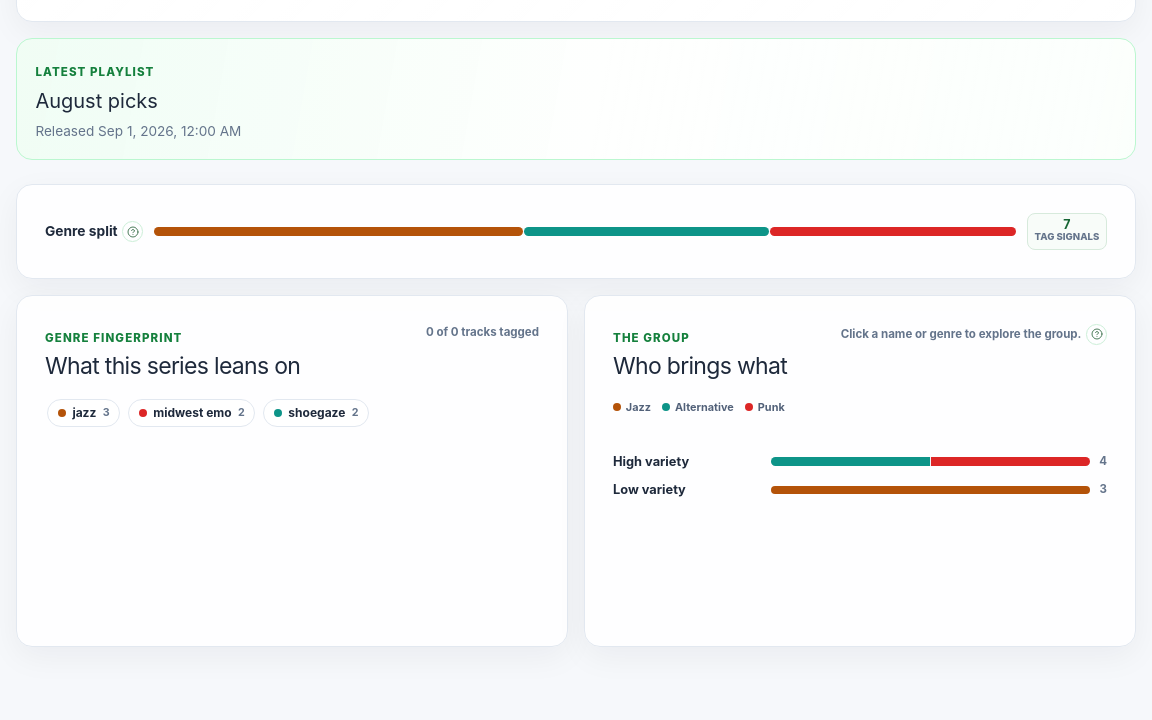
Test: SeriesPage › sorts and highlights contributors from the genre key or a fingerprint tag
(page scrolled)
Expected: the heading "Who brings what" is shown, x1=613 y1=353 x2=787 y2=380
Expected: the list item "High variety 4" is shown, x1=613 y1=452 x2=1107 y2=471
Click the button "punk" at (765, 407), box x1=745 y1=399 x2=785 y2=415
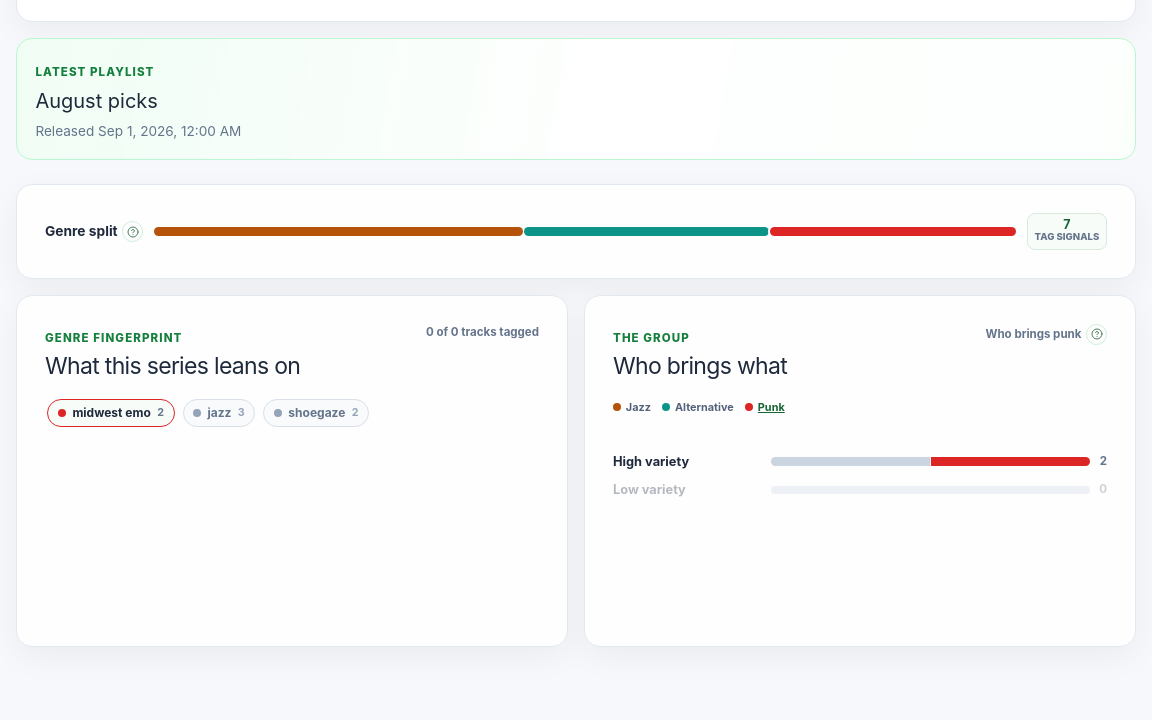
Expected: the list item "High variety 2" is shown, x1=613 y1=452 x2=1107 y2=471
Expected: the text "Who brings punk" is shown, x1=986 y1=324 x2=1107 y2=345
Click the button named "punk: 2 tags" at (893, 232), box x1=770 y1=214 x2=1016 y2=249
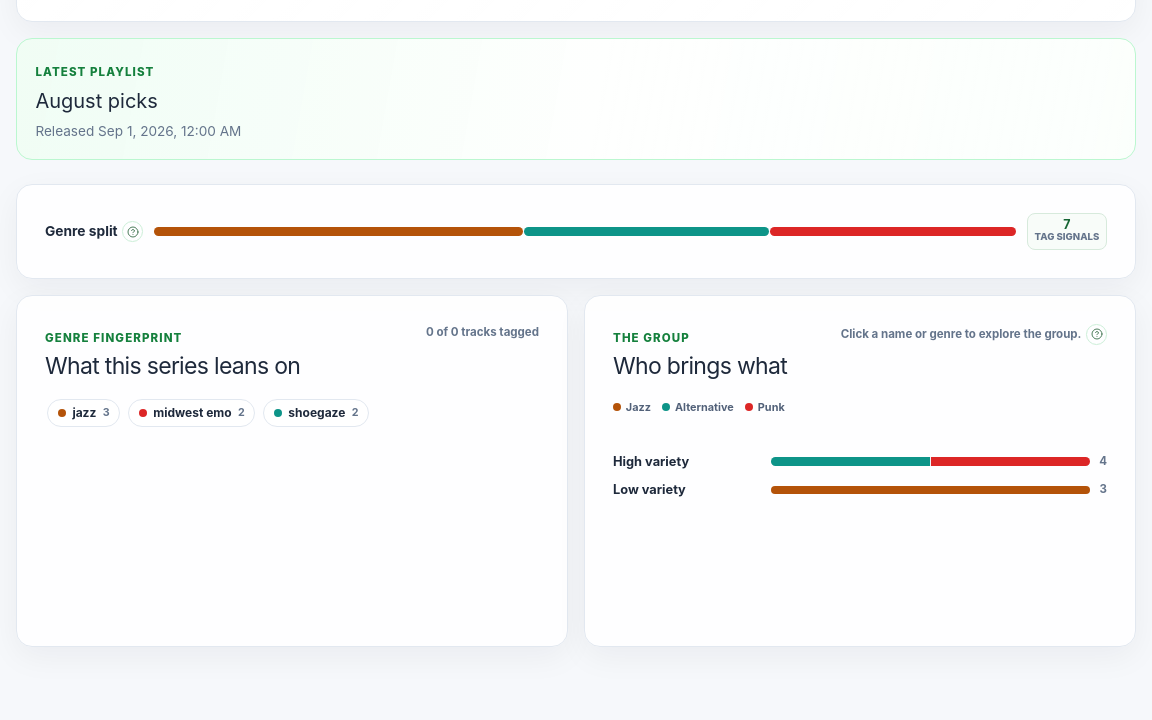
Expected: the text "Click a name or genre to explore the group." is shown, x1=841 y1=324 x2=1107 y2=345
Click the button named "punk: 2 tags" at (893, 232), box x1=770 y1=214 x2=1016 y2=249
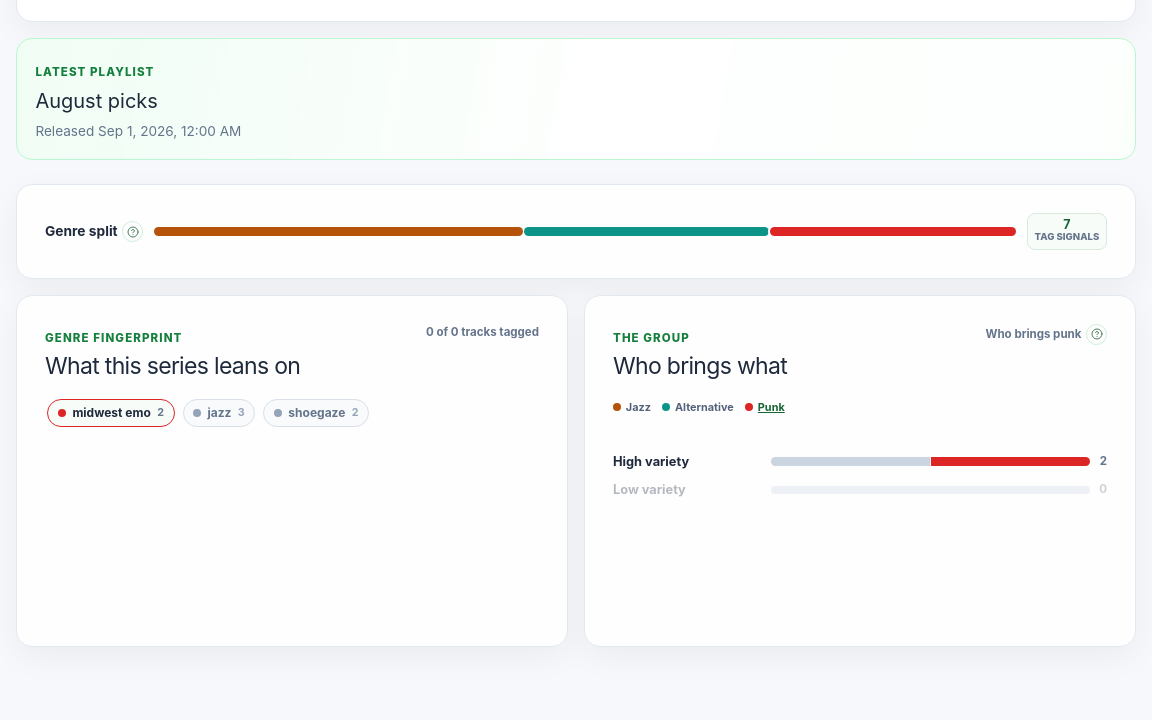
Expected: the text "Who brings punk" is shown, x1=986 y1=324 x2=1107 y2=345
Click the button "midwest emo 2" at (111, 413), box x1=47 y1=399 x2=174 y2=427
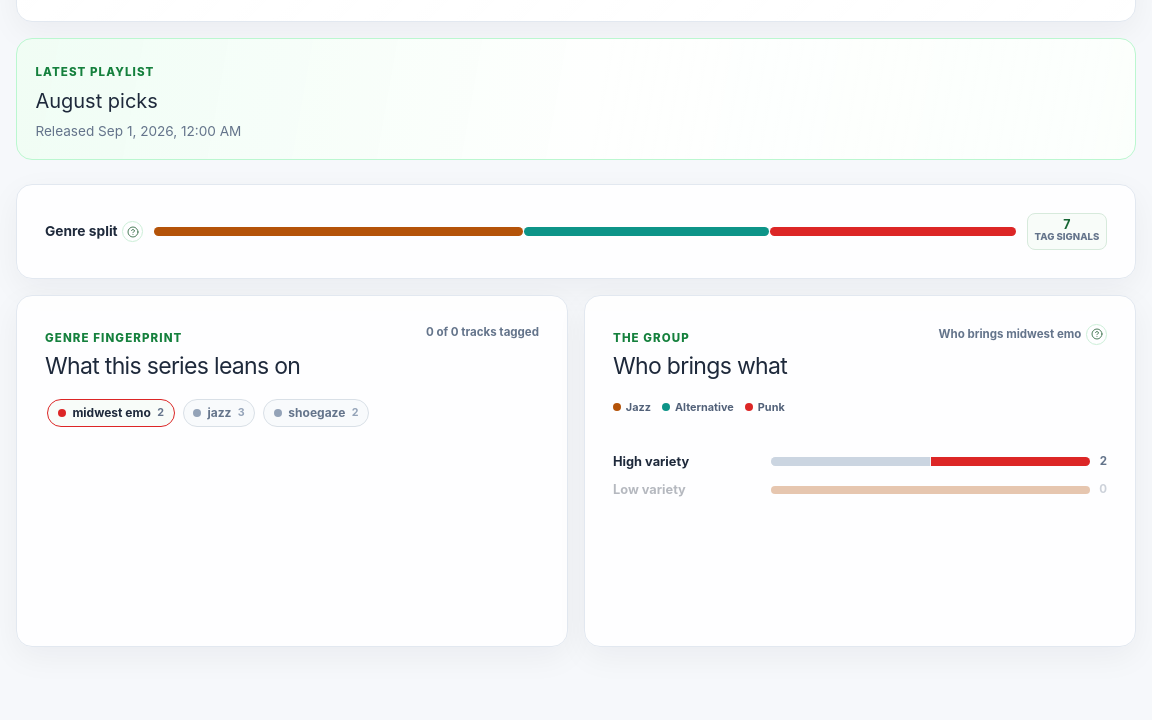
Expected: the text "Who brings midwest emo" is shown, x1=938 y1=324 x2=1107 y2=345
